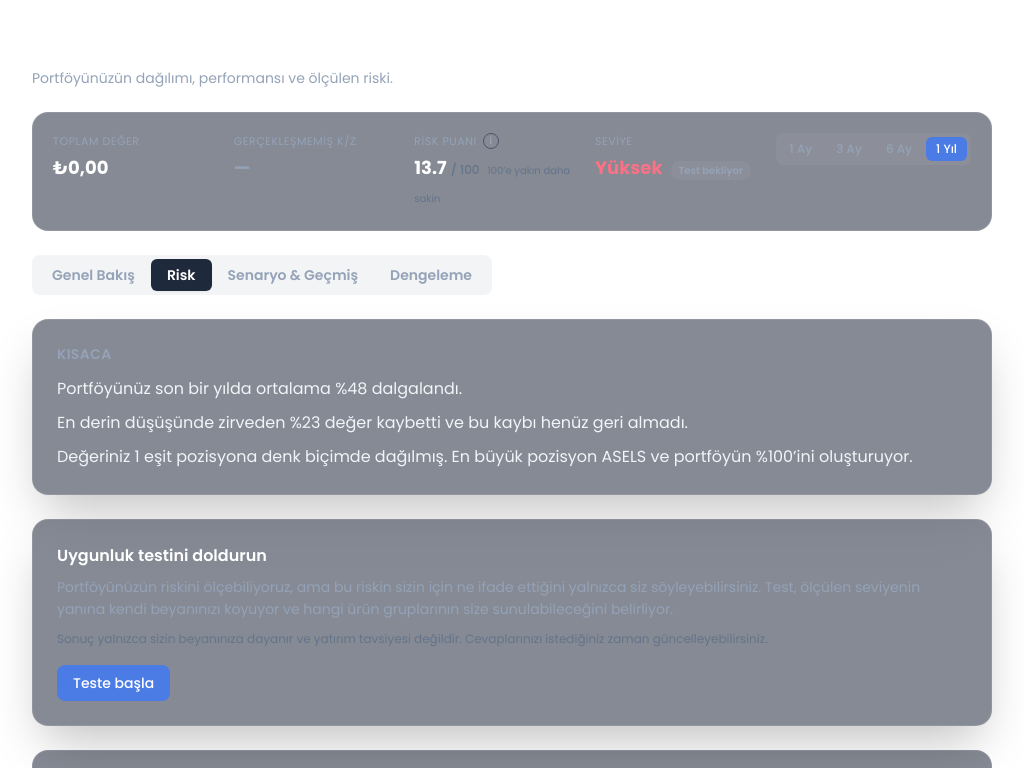
Analiz > Risk — uyum karşılaştırması › anketi başlatan düğme modalı açar
Click the button "Teste başla": (114, 682) [57,664,170,700]
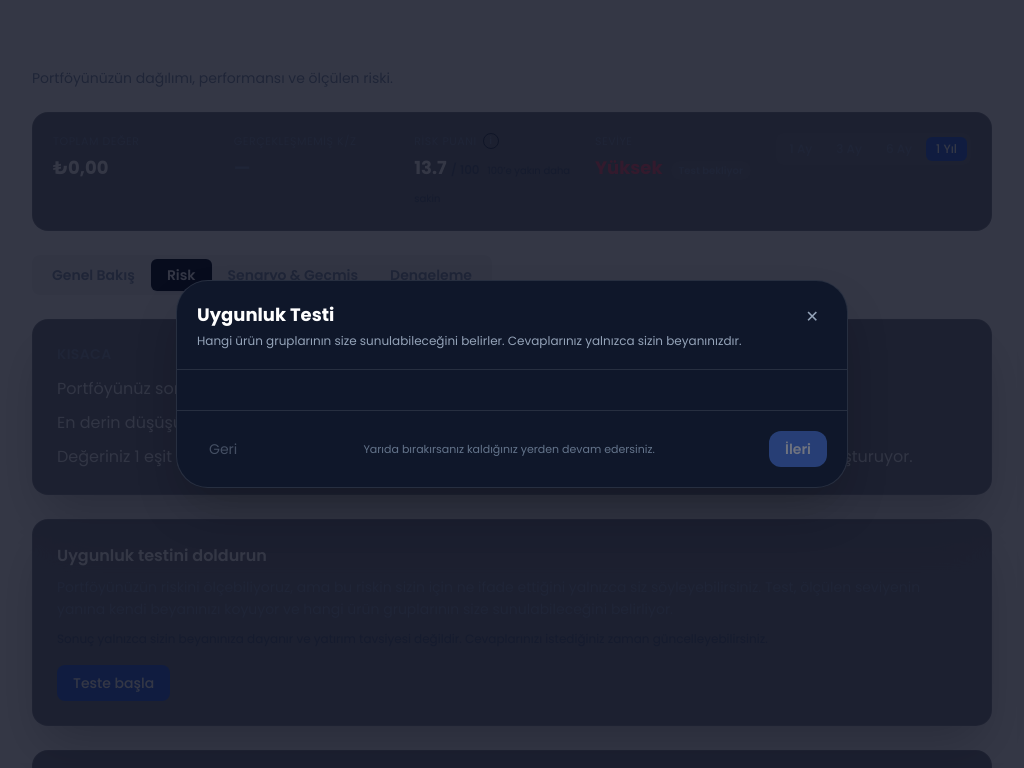
Check: the text "Uygunluk testi" is shown, box [57,544,267,566]
Check: the dialog is shown, box [176,280,848,488]
